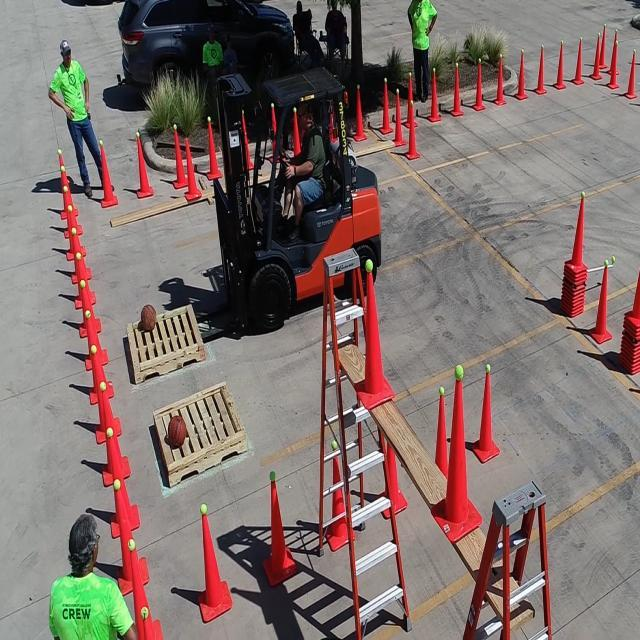driver: (276, 100, 324, 232)
forklift: (212, 77, 381, 320)
person: (50, 512, 132, 640), (52, 36, 100, 177), (410, 0, 432, 97), (206, 26, 222, 79)
